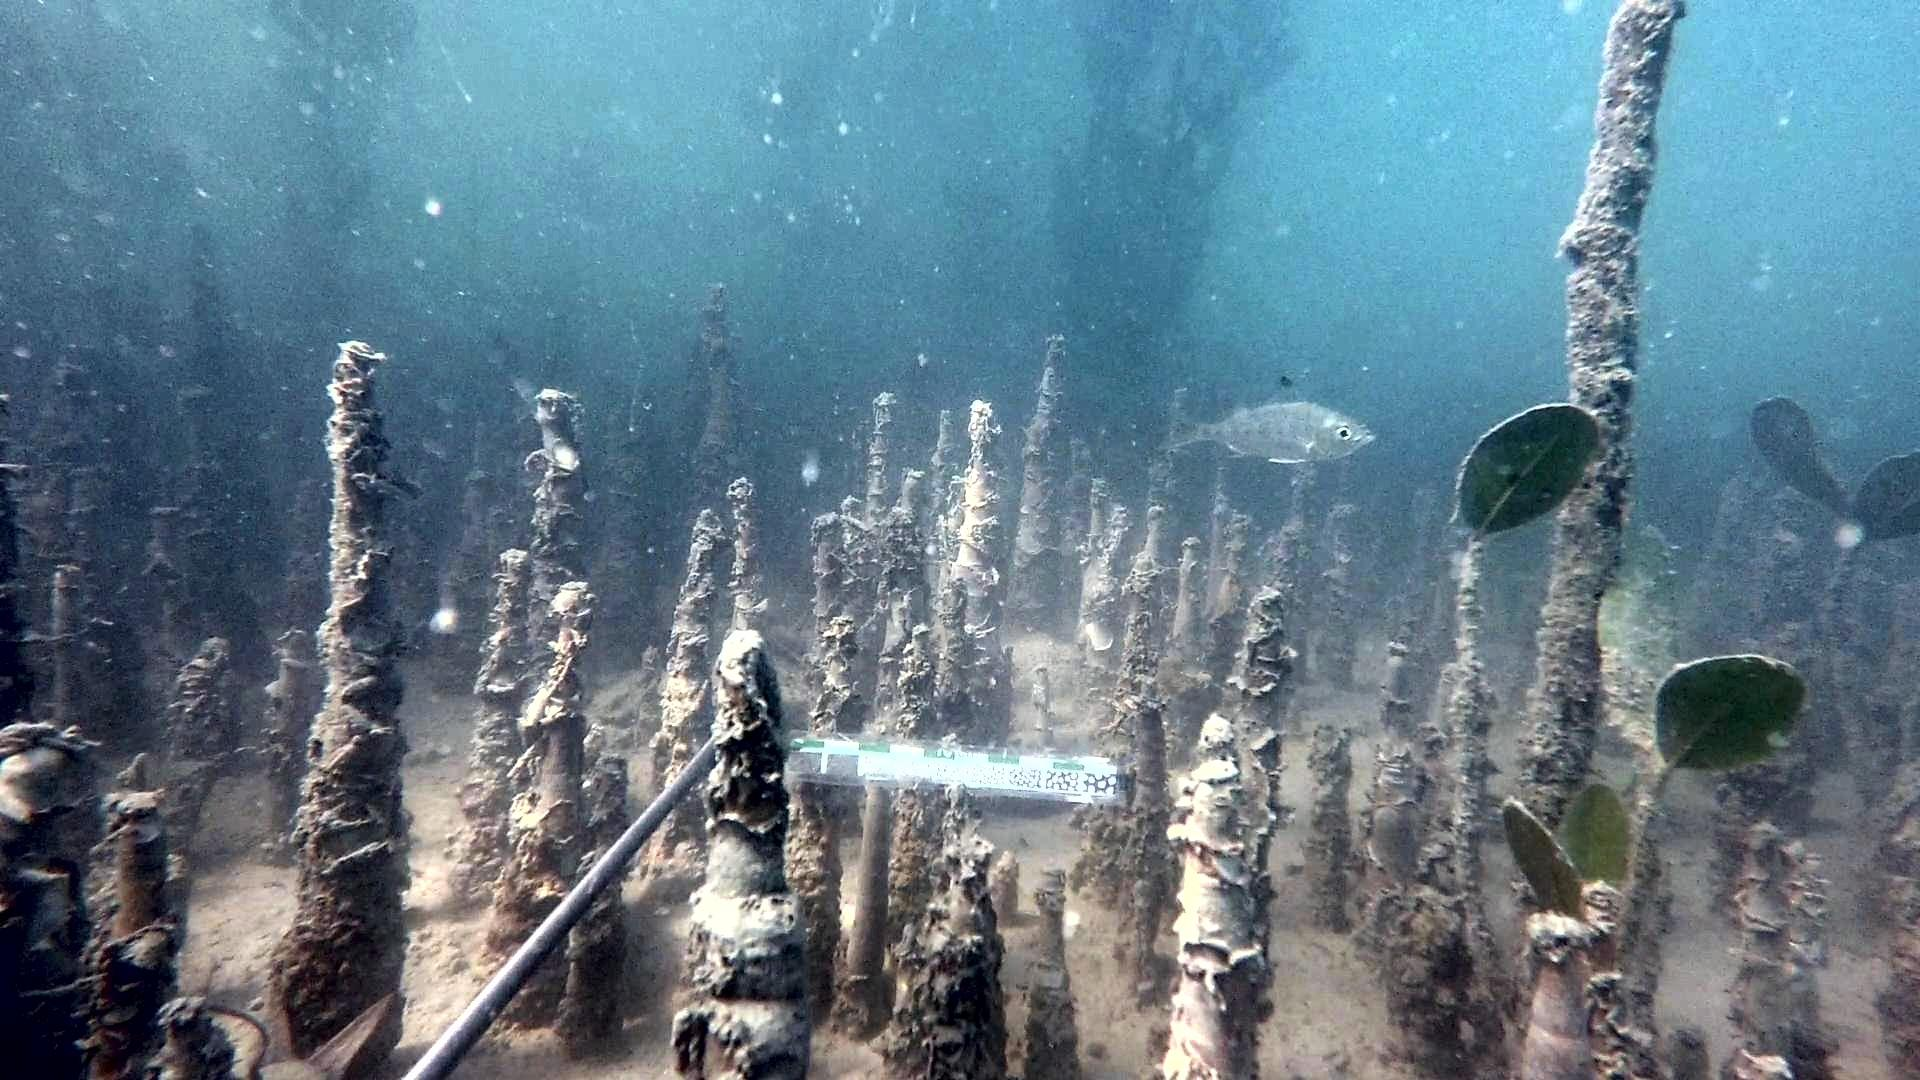gerres: (1154, 375, 1378, 465)
